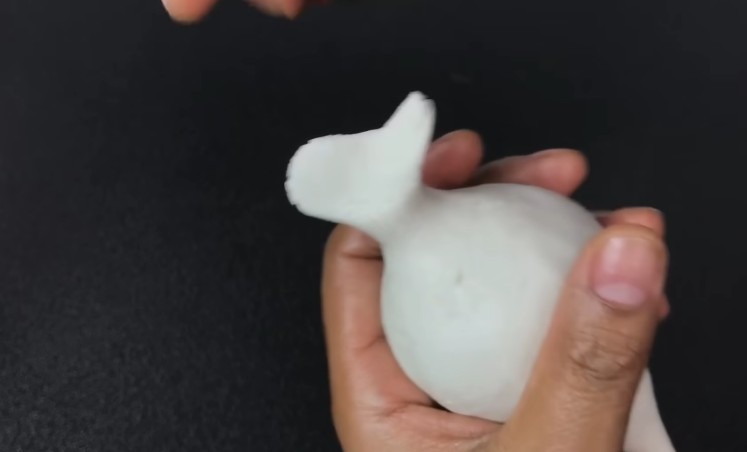yomari: (271, 92, 630, 419)
